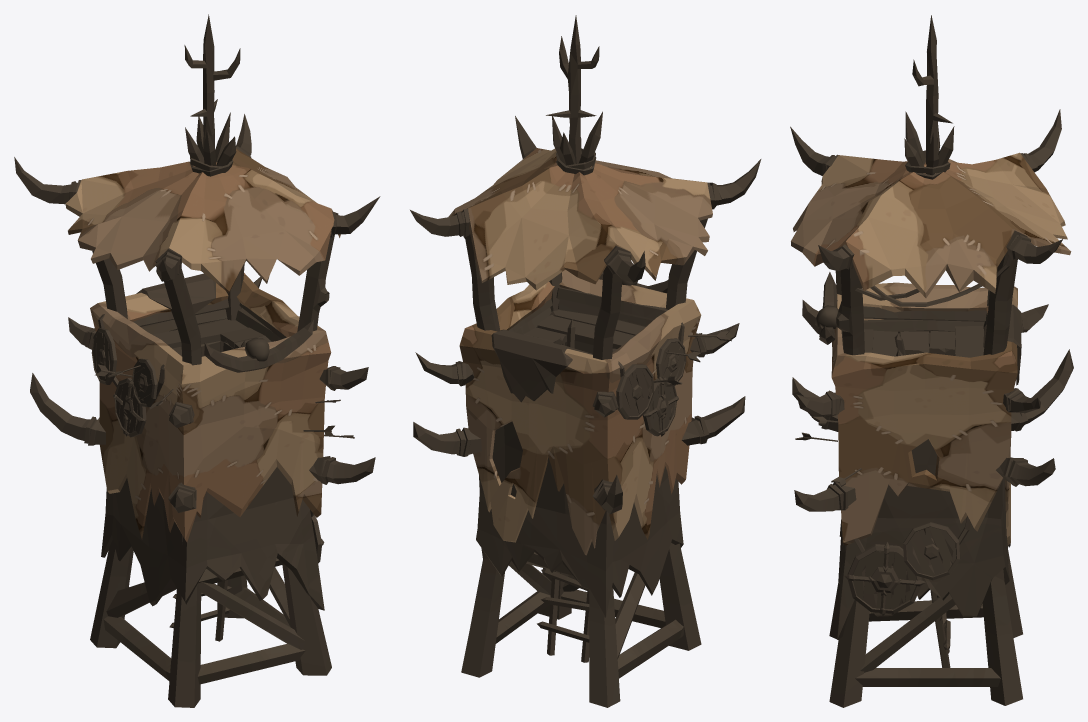
File: bog_tower.gltf
The picture shows the model from 3 angles, left to right: view 1: azimuth 30°, elevation 25°; view 2: azimuth 150°, elevation 25°; view 3: azimuth 270°, elevation 25°; orthographic projection.
Parts seen in each view (by area): view 1: bog_tower; view 2: bog_tower; view 3: bog_tower.
Part boxes in pixels (left/top/right/bottom): bog_tower: left=14, top=14, right=380, bottom=707; bog_tower: left=410, top=15, right=761, bottom=707; bog_tower: left=790, top=15, right=1073, bottom=707.
Size of the model in its own units: 3.76 by 9.32 by 3.67.
2 materials, 2 textured.
